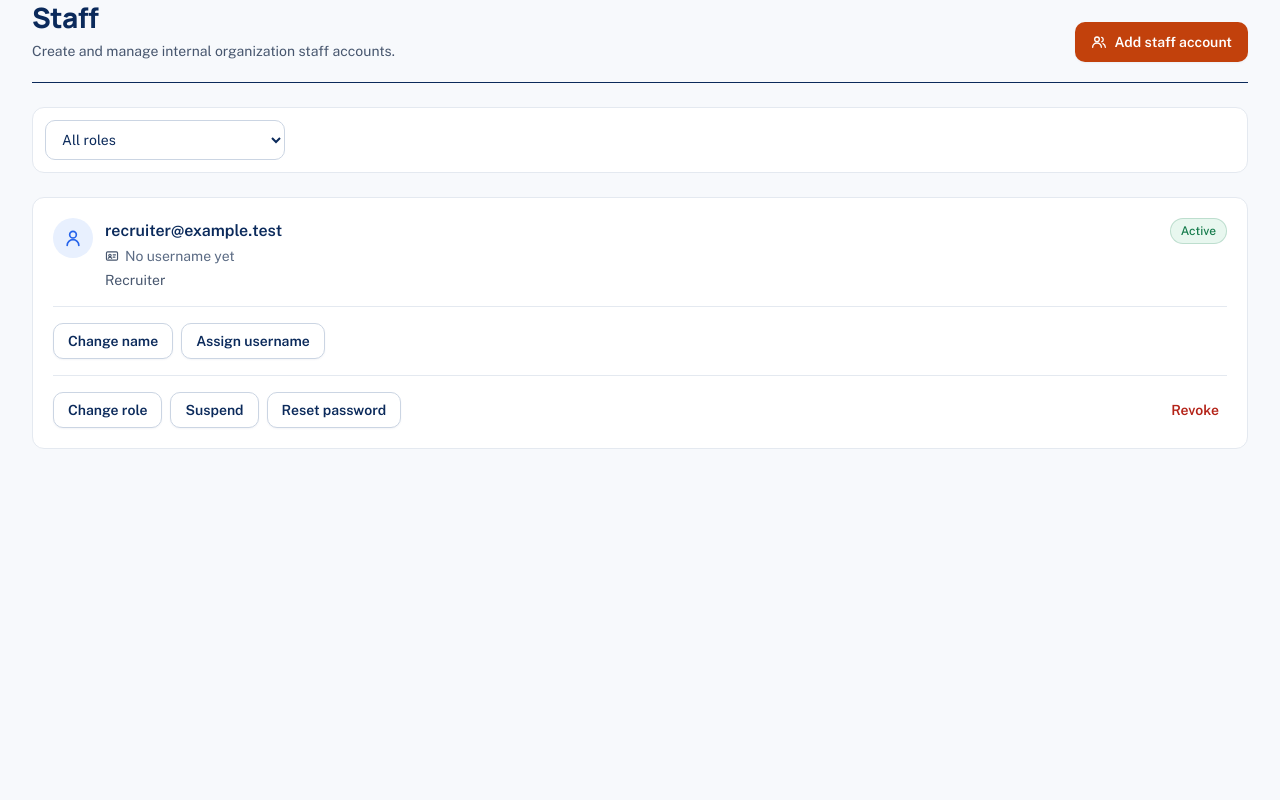
StaffPage (organization) › a refused suspension says what failed and why, instead of failing silently
The image size is (1280, 800).
Click the button "Suspend" at (215, 410), box [170,392,259,428]
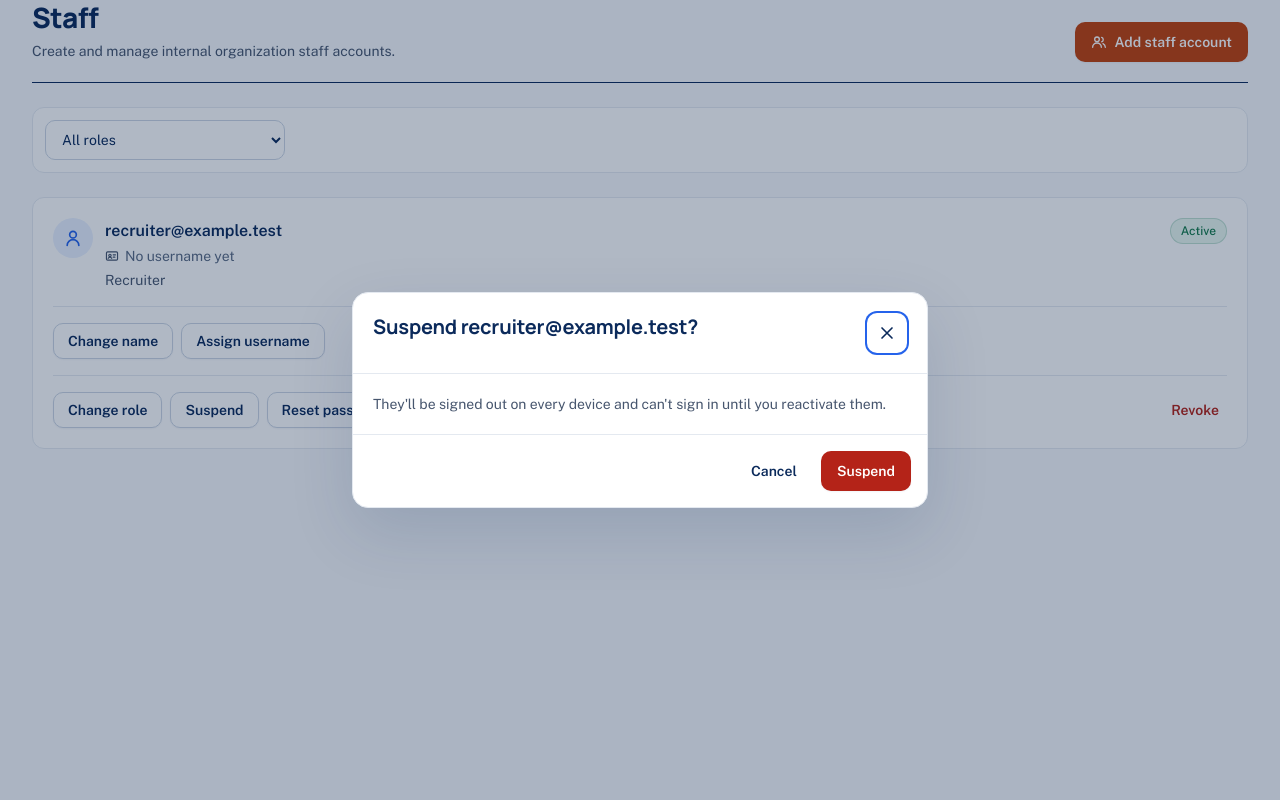
Click the button "Suspend" at (866, 471), box [821,451,911,491]
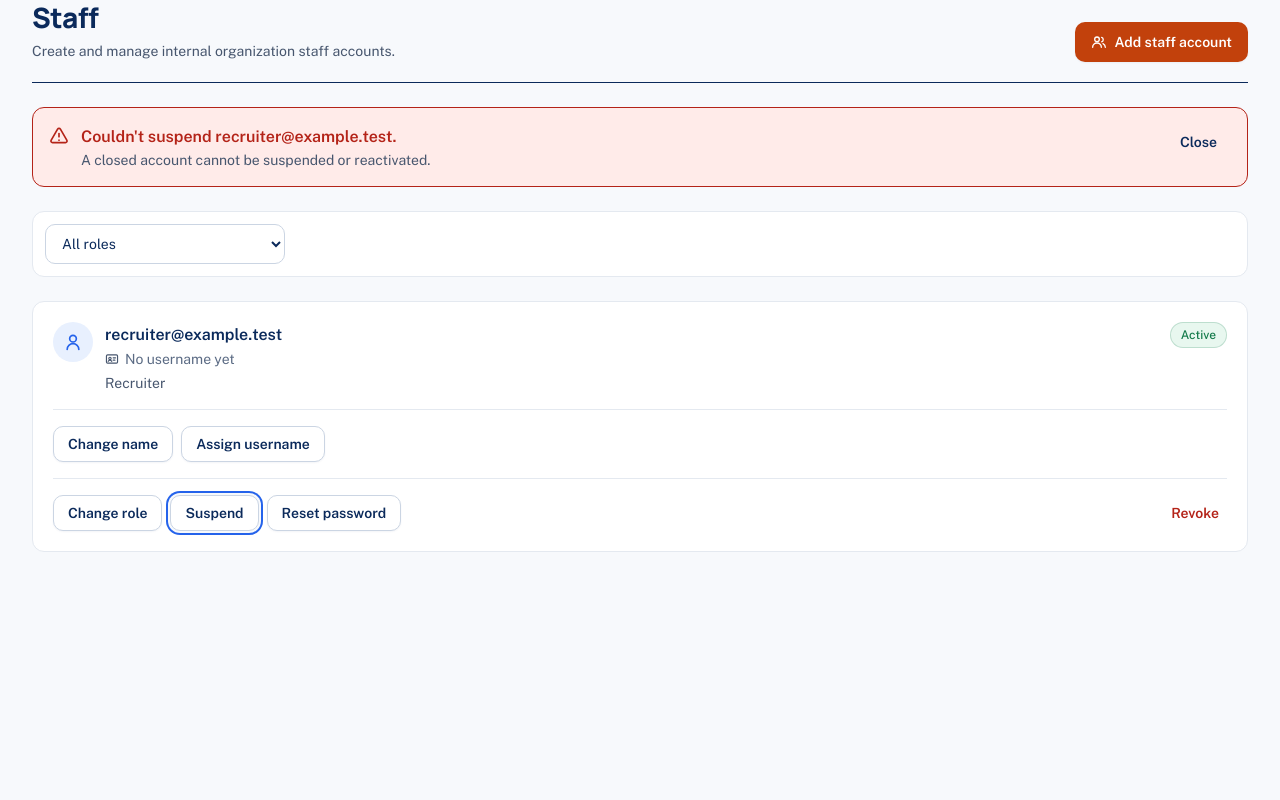
Check: the message does not show "raw server text", box [32,107,1248,187]
Check: the message shows "Couldn't suspend recruiter@example.test.", box [81,127,396,146]
Check: the message shows "A closed account cannot be suspended or reactivated.", box [81,152,430,168]
